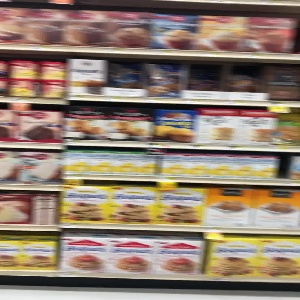void: (182, 60, 220, 97)
